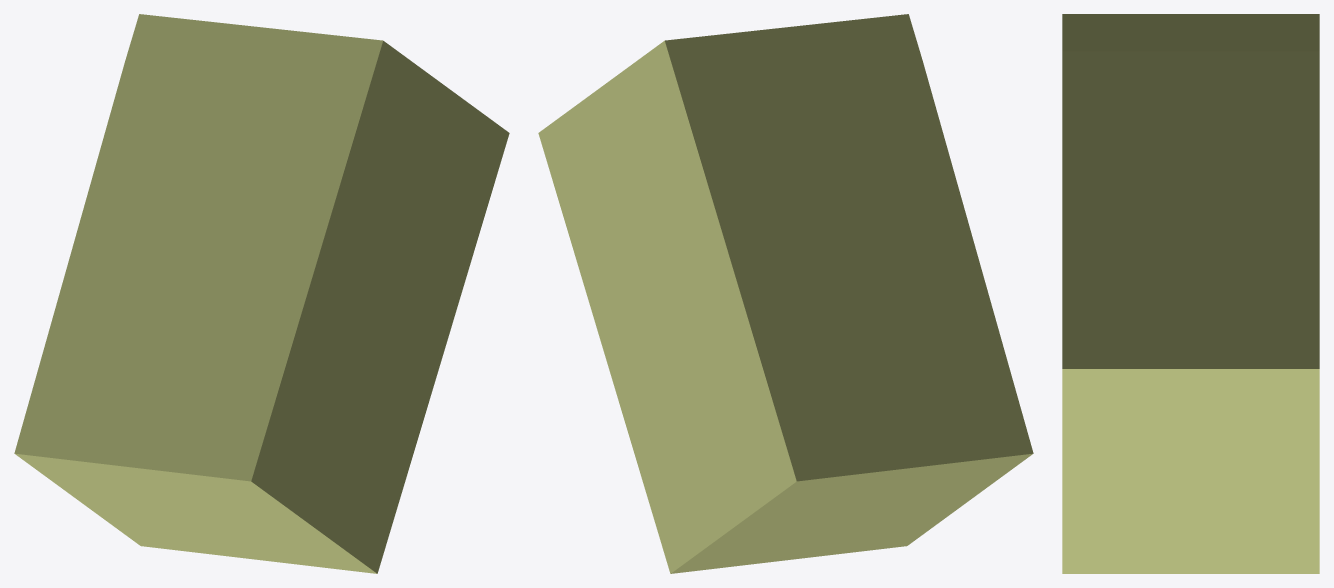
3 renders of one model, left to right at view 1: azimuth 30°, elevation 25°; view 2: azimuth 150°, elevation 25°; view 3: azimuth 270°, elevation 25°, orthographic.
Visible parts, largest first — view 1: 0_3_1_3_3_2_3_0_2_3_1; view 2: 0_3_1_3_3_2_3_0_2_3_1; view 3: 0_3_1_3_3_2_3_0_2_3_1.
Boxes of the visible parts, left/top/right/bottom form: 0_3_1_3_3_2_3_0_2_3_1: left=14, top=14, right=509, bottom=573; 0_3_1_3_3_2_3_0_2_3_1: left=538, top=14, right=1033, bottom=573; 0_3_1_3_3_2_3_0_2_3_1: left=1062, top=14, right=1319, bottom=573.
Size of the model in its own units: 10.11 by 12.96 by 6.
